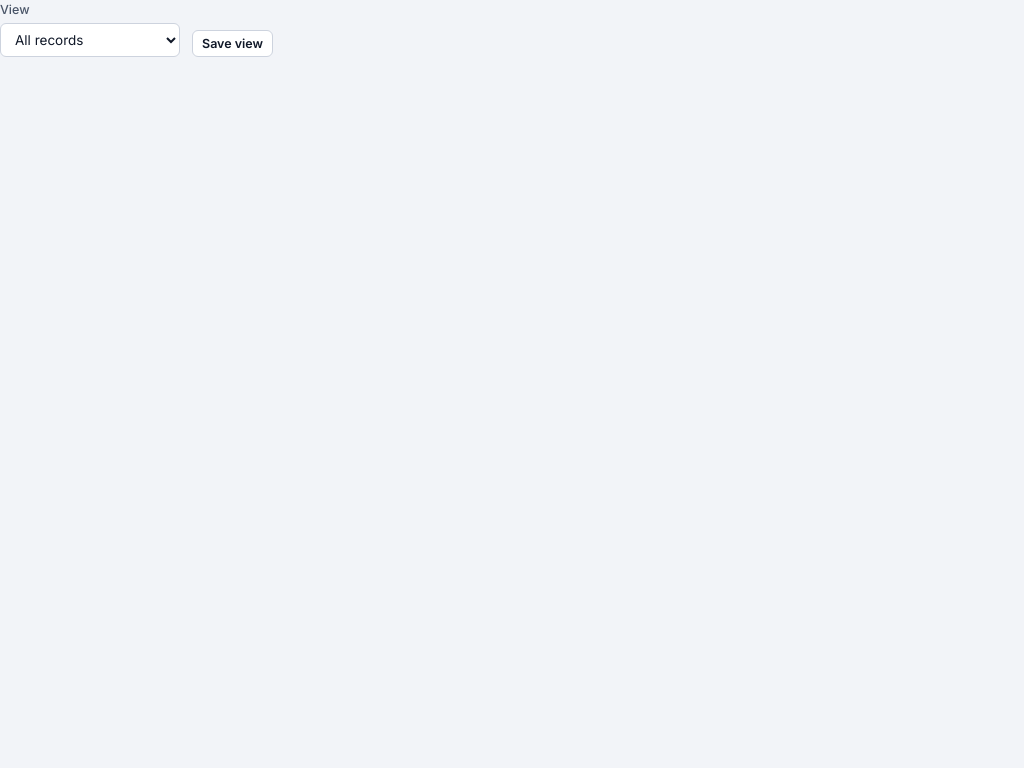
Test case: SavedViewsBar › refuses to save a view with no name
Step 1. Click the button "Save view" → (233, 44), box [192,30,273,57]
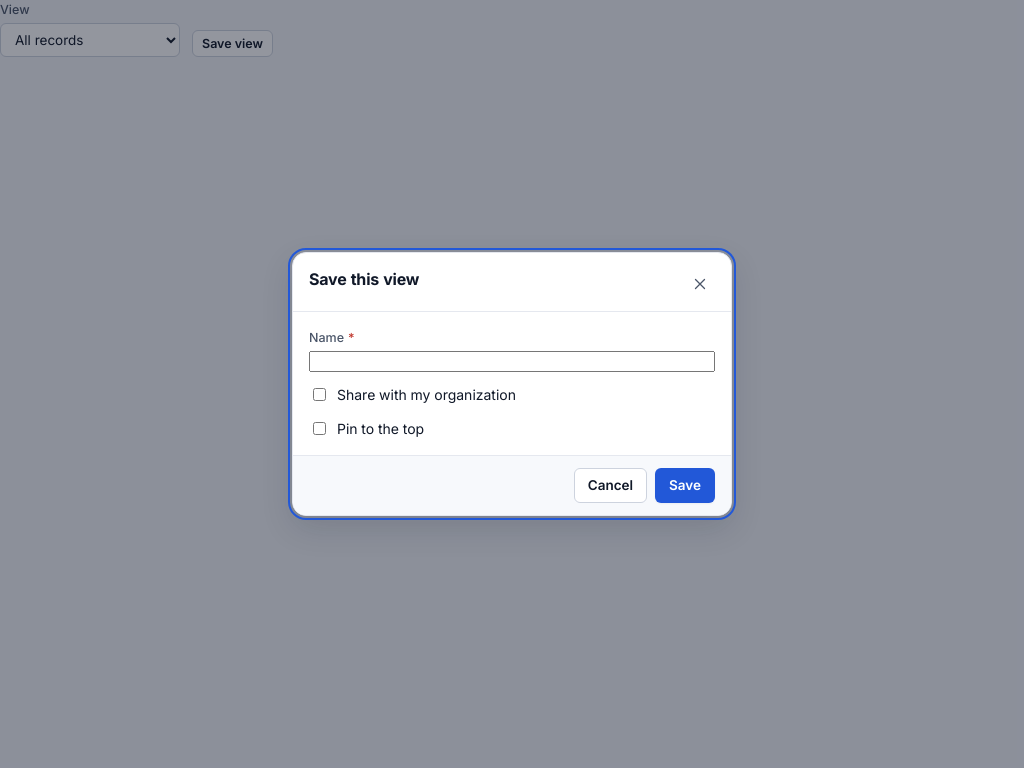
Step 2. Click the button "Save" → (685, 486), box [655,468,715,503]
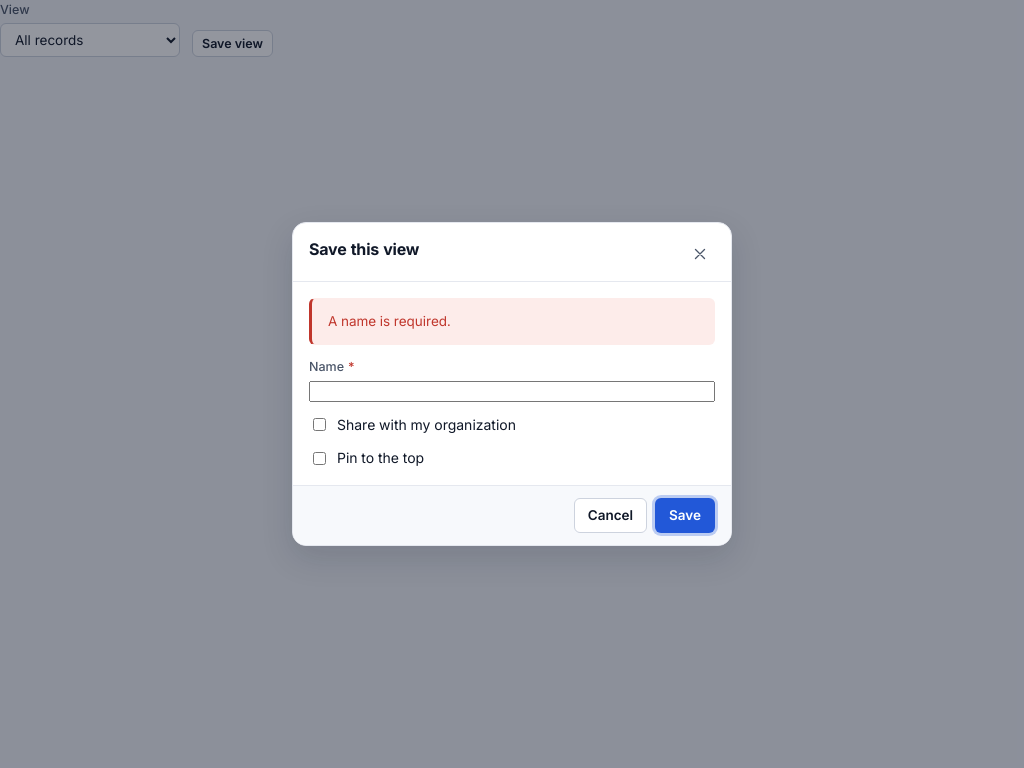
expect the text "A name is required." is shown: met, box [328,313,451,329]
